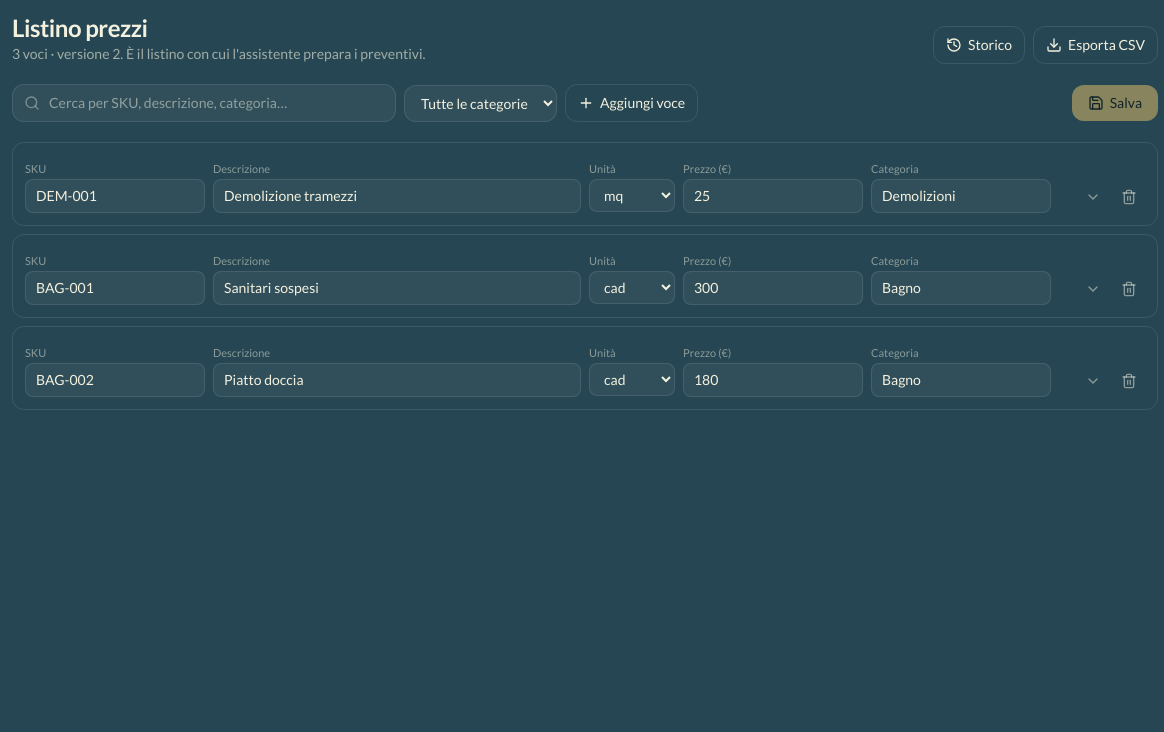
Test case: PriceBookEditor › adds a new line on top and removes one
Click the button with test id "pb-add": (632, 103) [565,84,698,122]
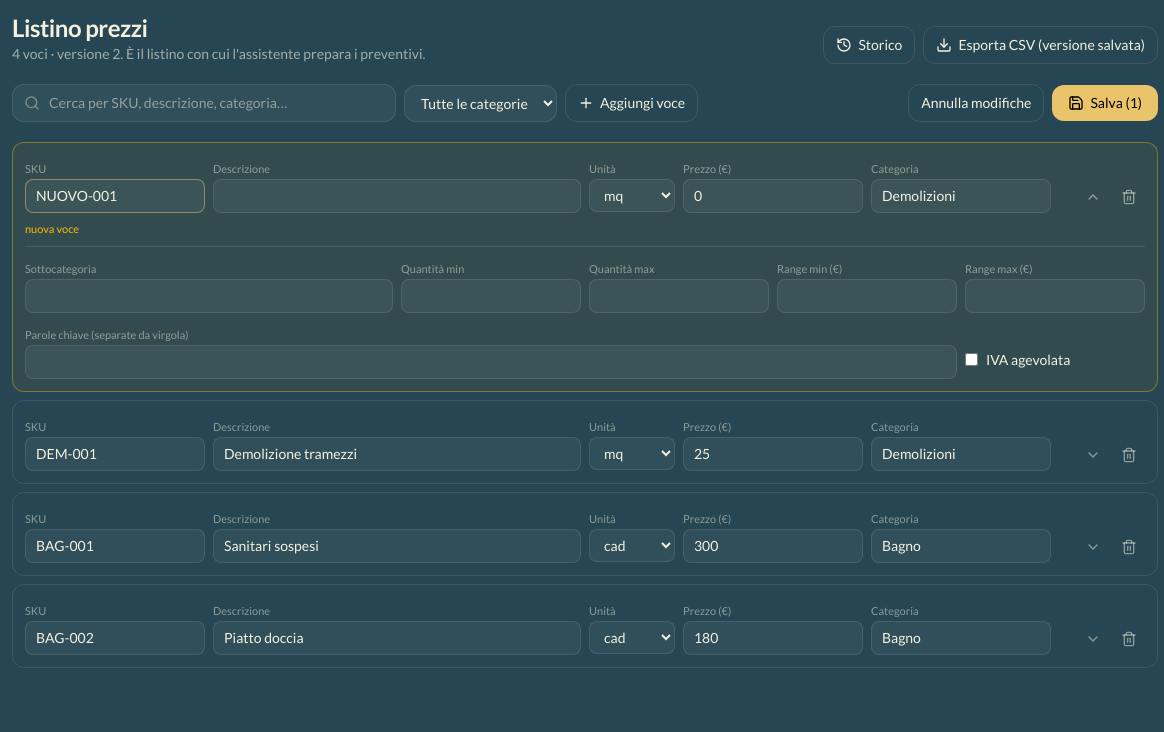
Expected: the number of list items with test id "pb-row" is 4, [12,142,1158,392]; [12,400,1158,484]; [12,492,1158,576]; [12,584,1158,668]
Expected: the field with test id "pb-sku-0" holds "NUOVO-001", [25,179,205,213]
Expected: the element with test id "pb-details" is shown, [25,246,1145,378]
Click the button named "Elimina la voce NUOVO-001": (1129, 197) [1113,181,1145,213]
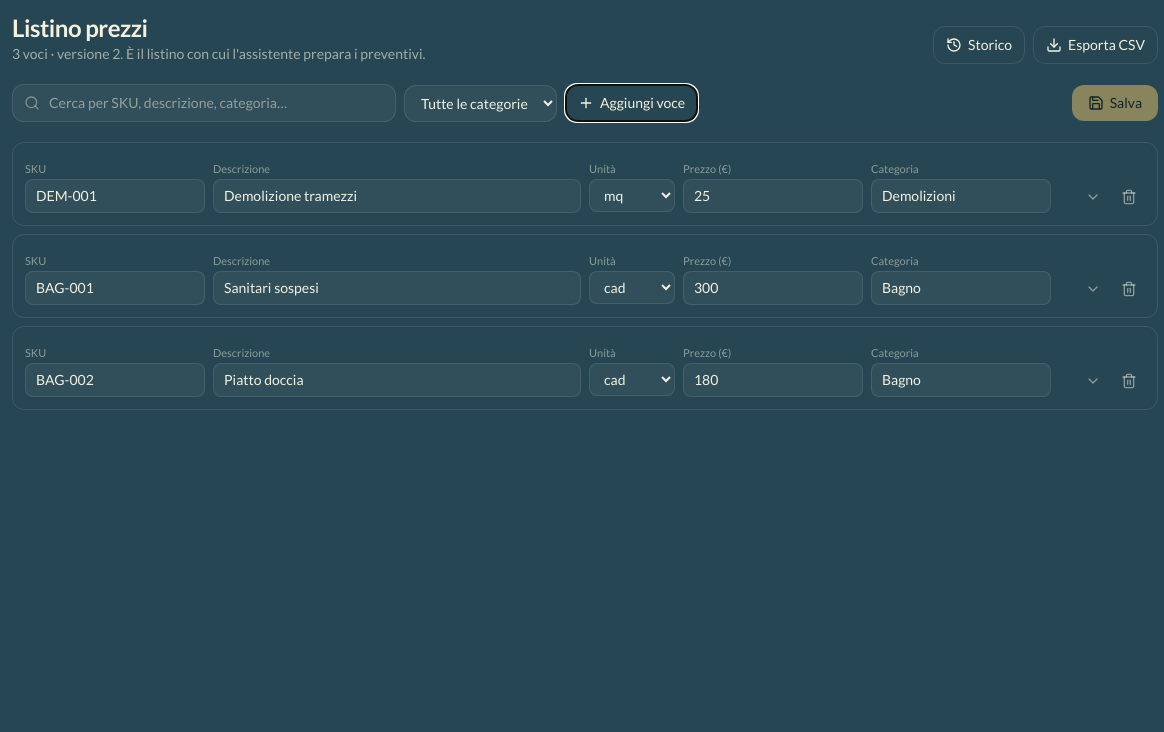
Expected: the number of list items with test id "pb-row" is 3, [12,142,1158,226]; [12,234,1158,318]; [12,326,1158,410]
Expected: the button with test id "pb-save" is disabled, [1072,85,1158,121]
